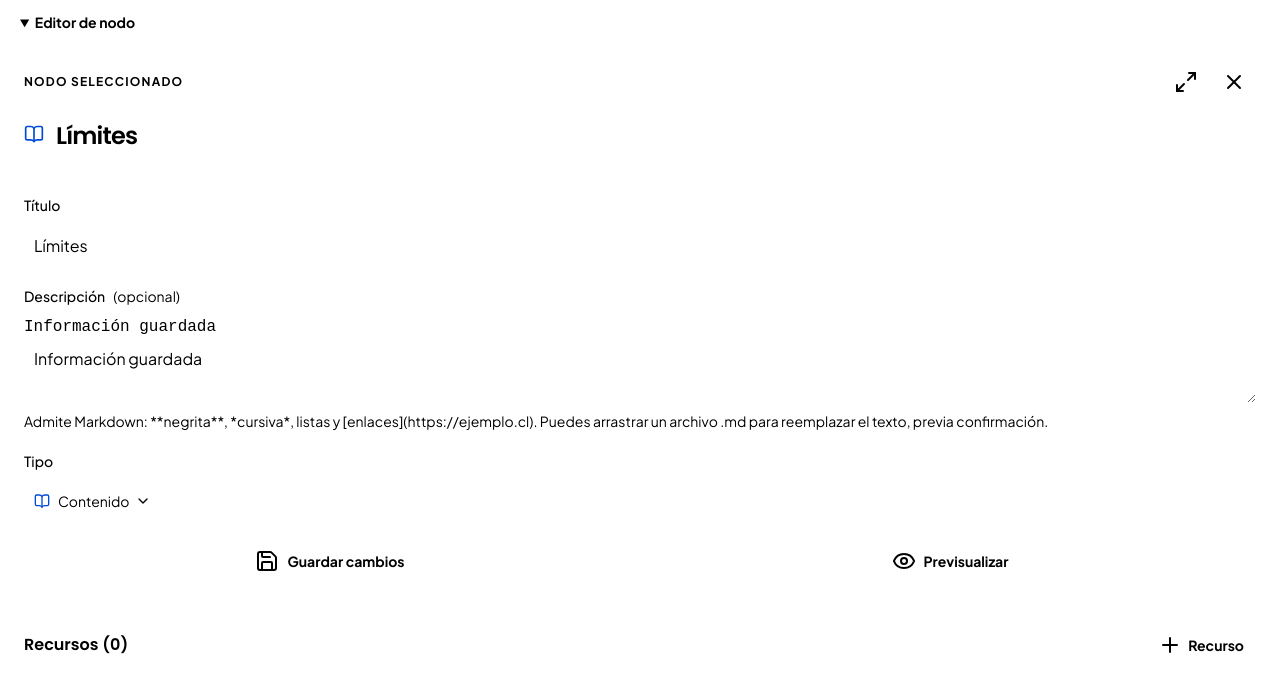
Test: explains an empty title instead of saving it
Step 1. Clear the field labelled "Título" → (640, 245), box [24,223,1256,267]
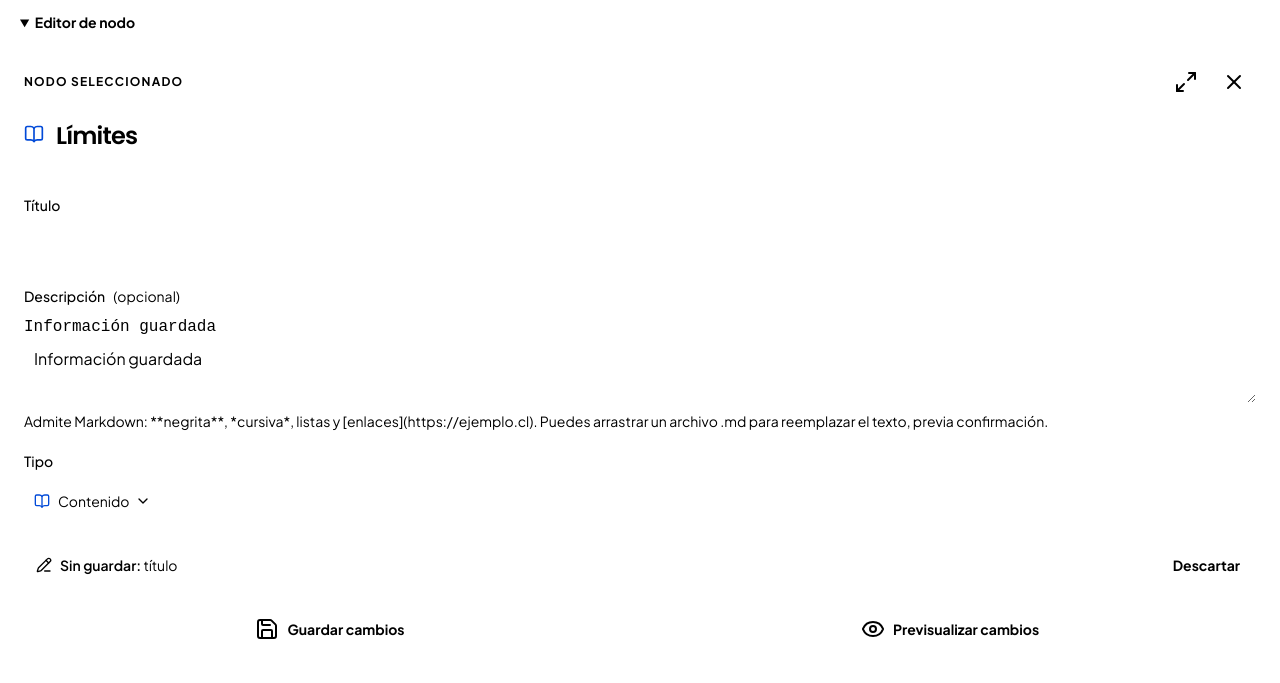
Step 2. Click the button "Guardar cambios" → (330, 629), box [24,607,636,651]
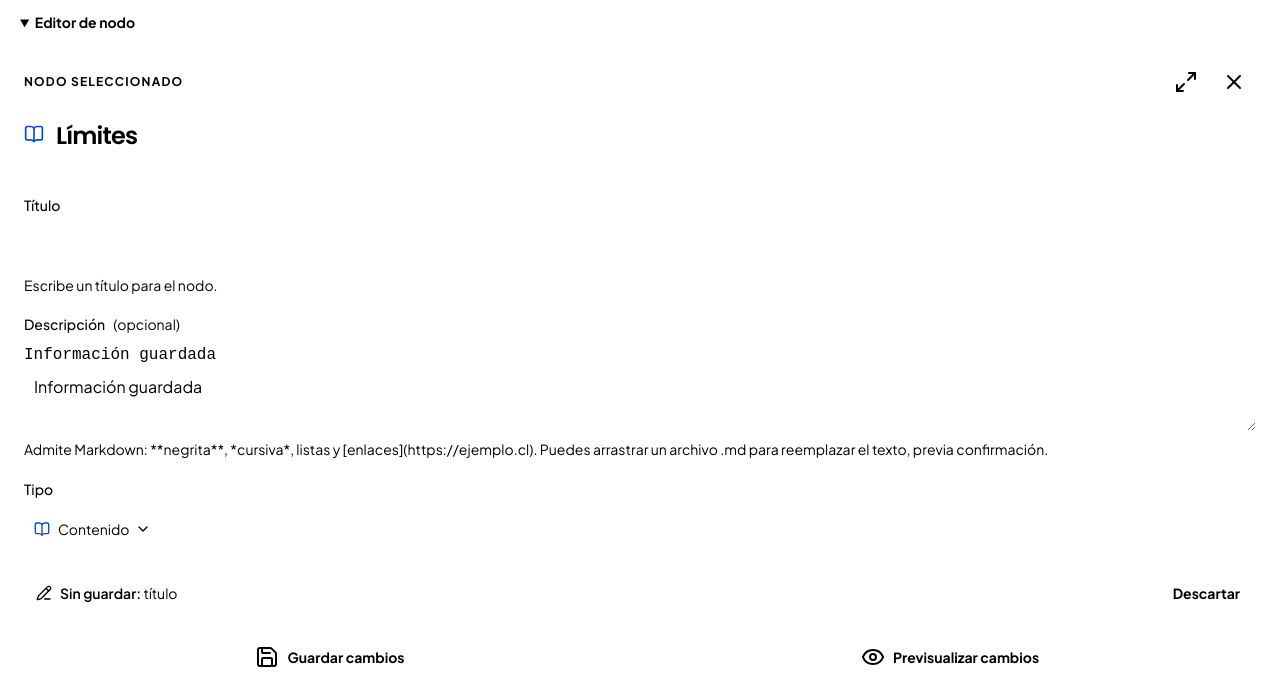
Expected: the text "Escribe un título para el nodo." is shown, [24,276,218,294]
